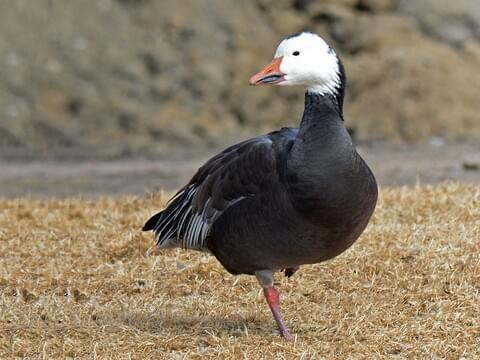goose: (140, 28, 381, 346)
